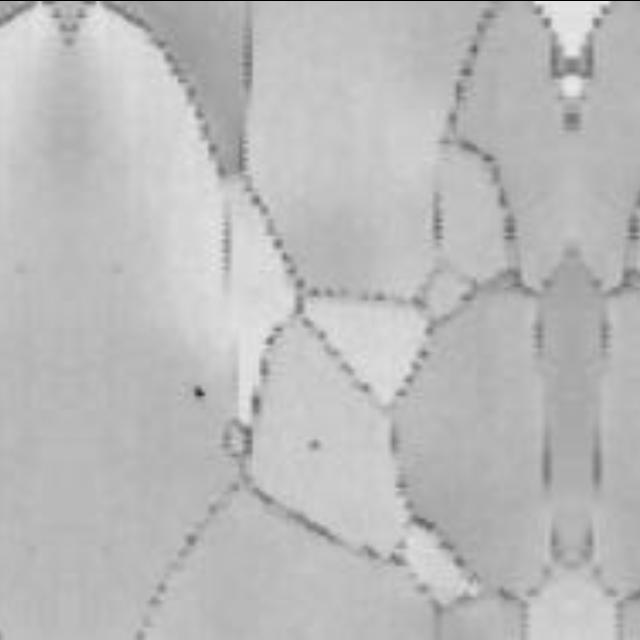good_void: (300, 438, 319, 454), (190, 385, 206, 399)
